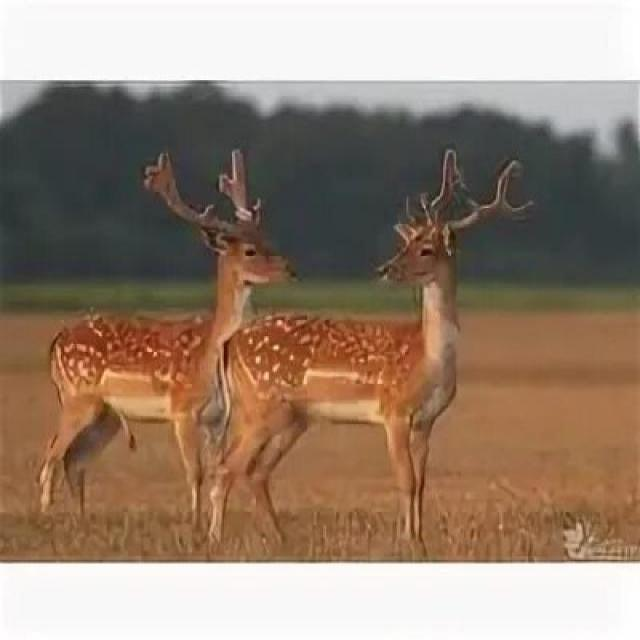deer: (246, 127, 531, 541), (32, 158, 294, 503)
